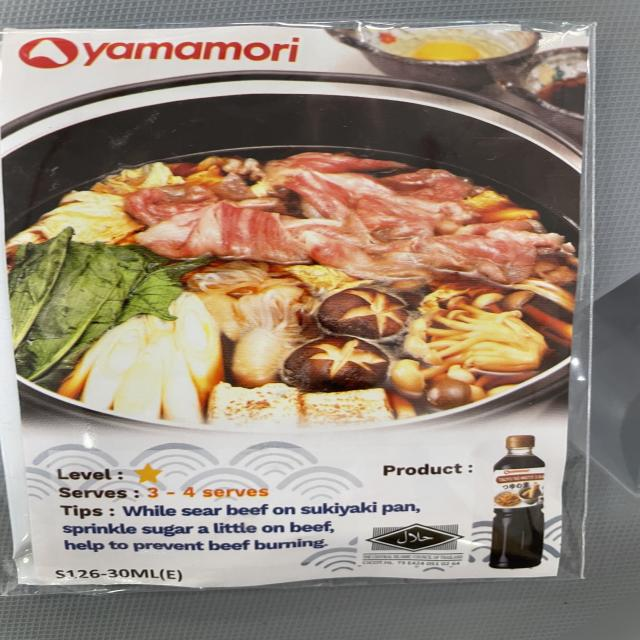object_name: (34, 27, 563, 581)
